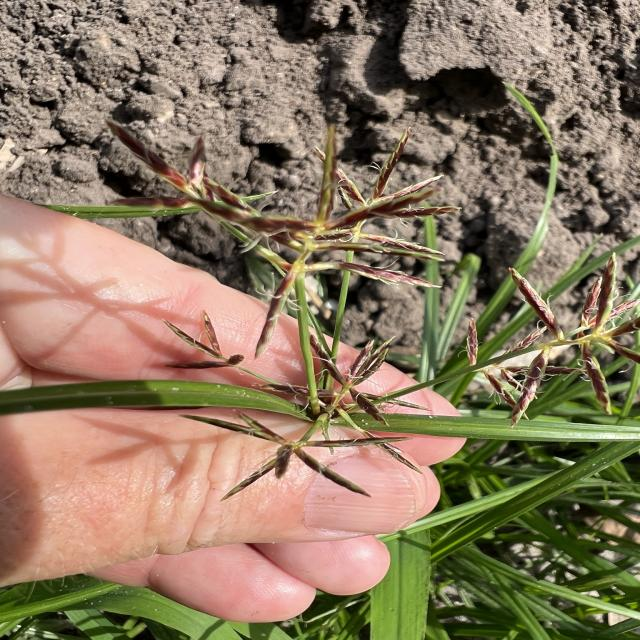cyperus: (100, 78, 640, 490), (108, 94, 450, 496), (104, 86, 448, 305), (148, 304, 428, 505), (459, 262, 640, 412)
